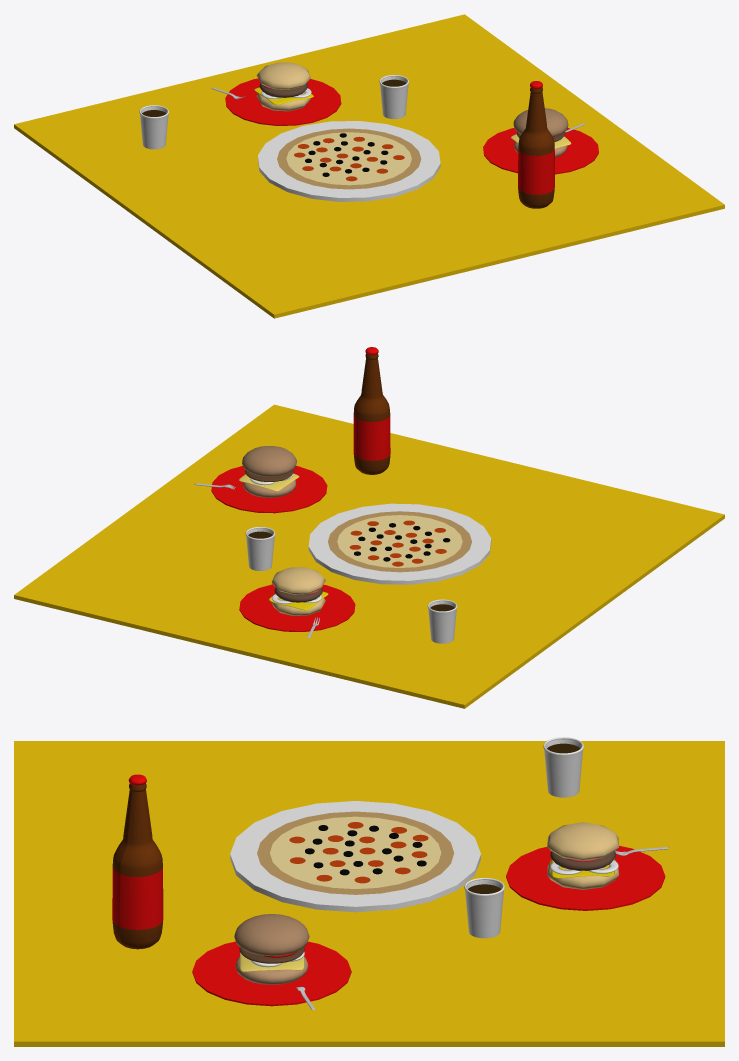
The picture shows the model from 3 angles, top to bottom: view 1: azimuth 30°, elevation 25°; view 2: azimuth 150°, elevation 25°; view 3: azimuth 270°, elevation 25°; orthographic projection. The views are drawn at different scales.
Parts seen in each view (by area): view 1: polySurface1; view 2: polySurface1; view 3: polySurface1.
Part boxes in pixels (<box>): polySurface1: <box>14,14,724,318</box>; polySurface1: <box>14,347,724,708</box>; polySurface1: <box>14,737,724,1046</box>.
Size of the model in its own units: 0.5318 by 0.144 by 0.5318.
